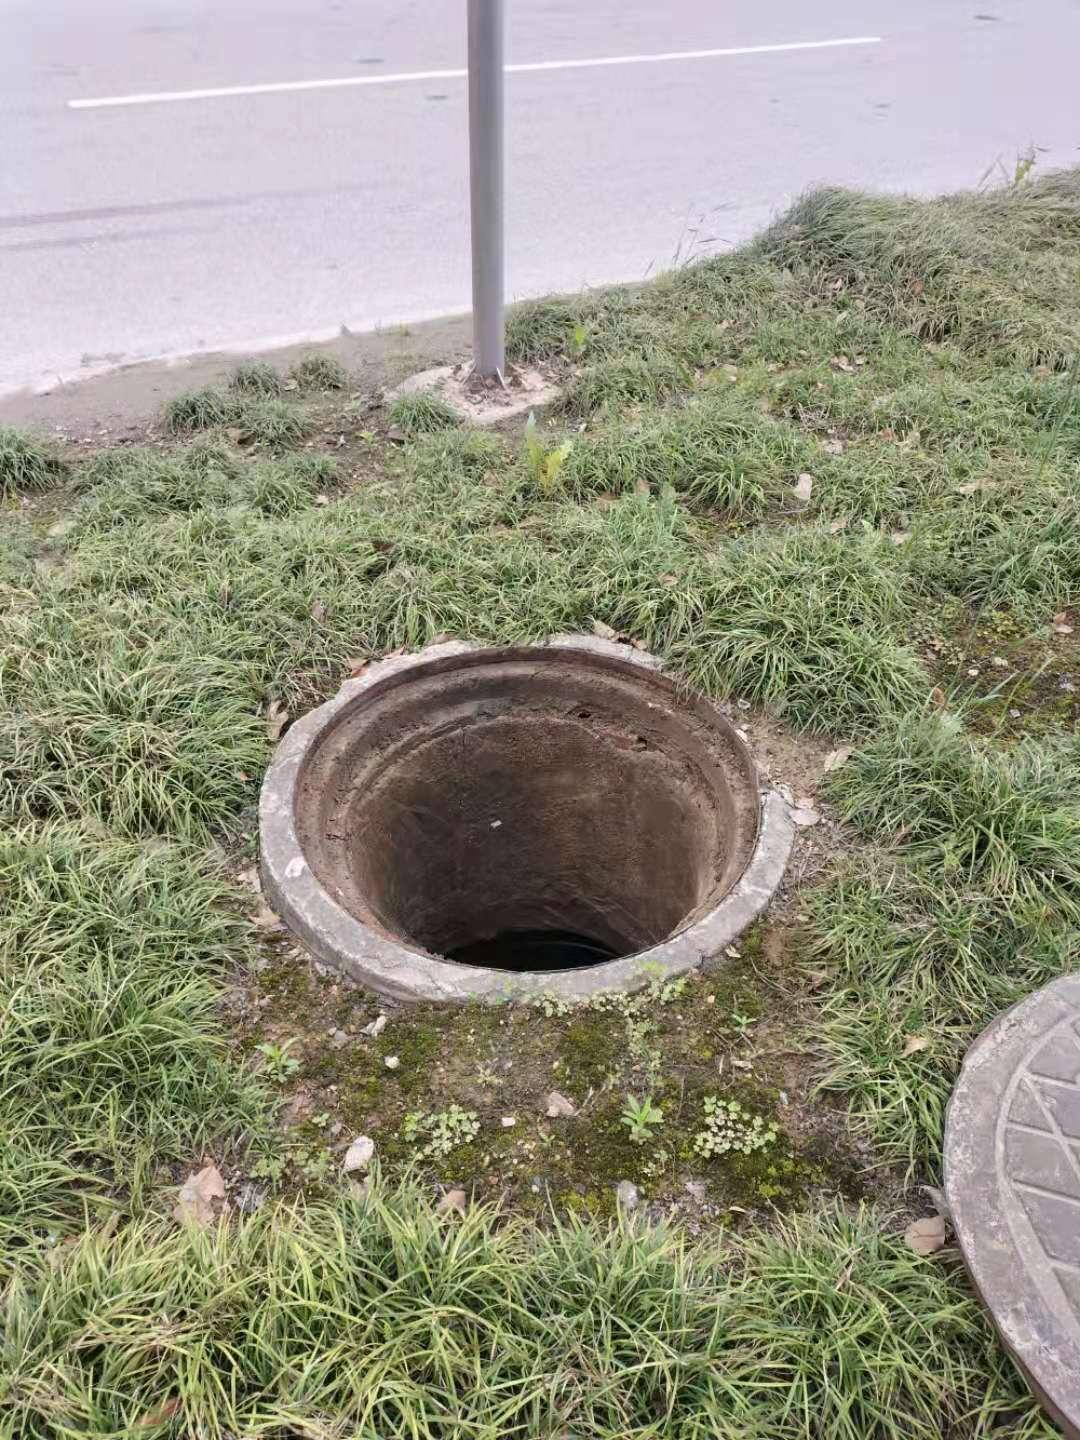wellcover: (248, 624, 835, 1002), (923, 979, 1080, 1374)
